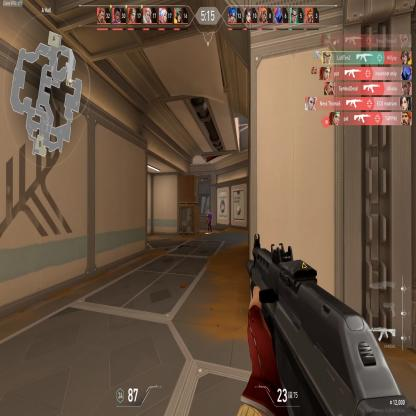enemy: (206, 209, 212, 232)
